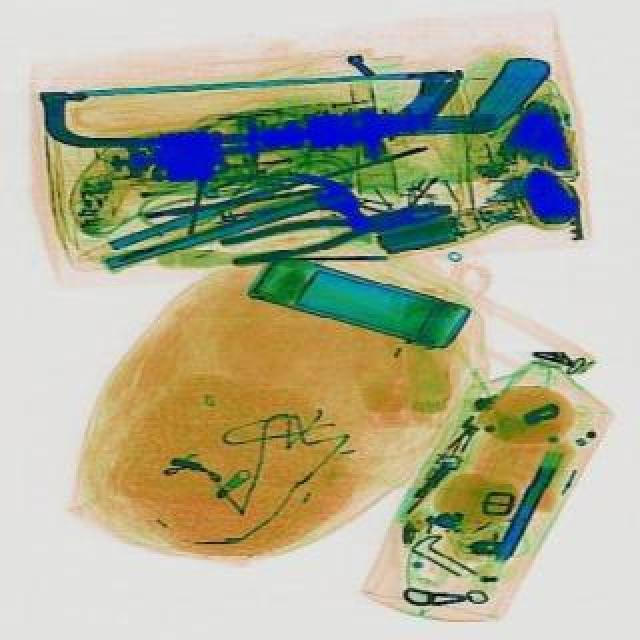wrench: (224, 190, 460, 268)
